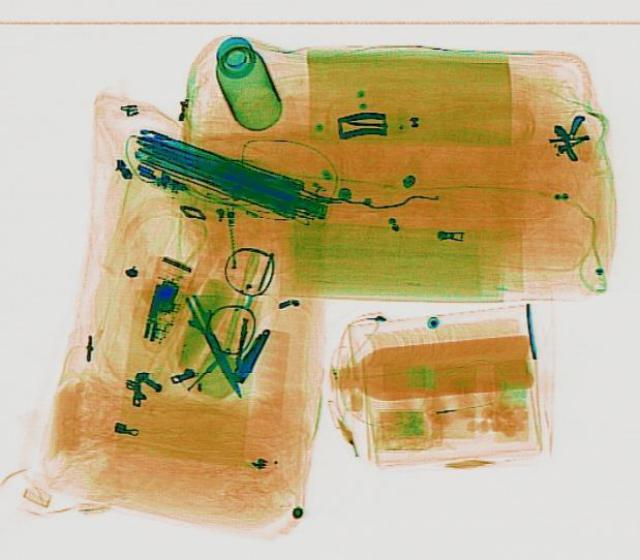Knife: (173, 290, 255, 402)
